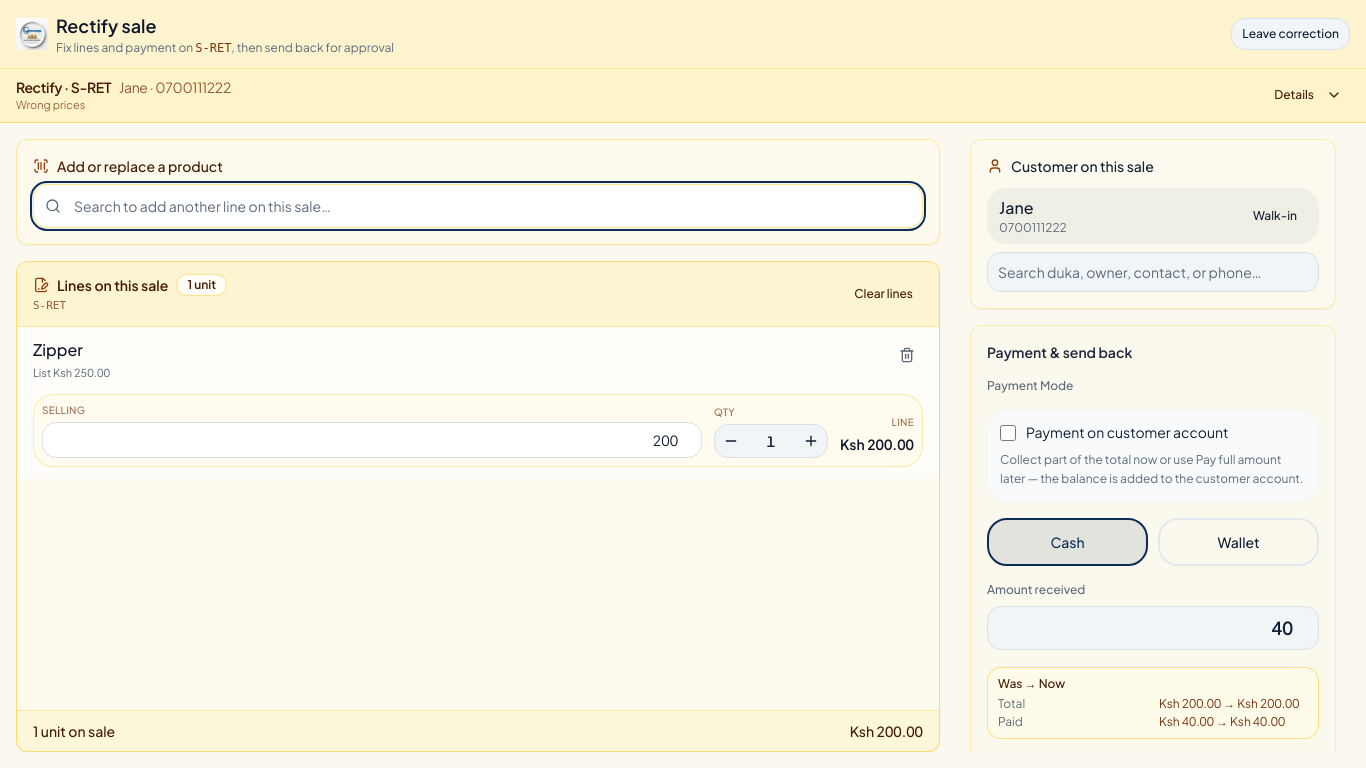
BillingPOSPage invoice layout › shows compact Rectify chrome on Terminal POS for returned sales
The width and height of the screenshot is (1366, 768).
Expected: the element with test id "returned-sale-banner" shows "Rectify · S-RET", [0,69,1365,122]
Expected: the element with test id "returned-sale-banner" shows "Wrong prices", [16,98,85,111]
Click the button with test id "correction-details-toggle": (1308, 95) [1266,79,1350,111]
(page scrolled)
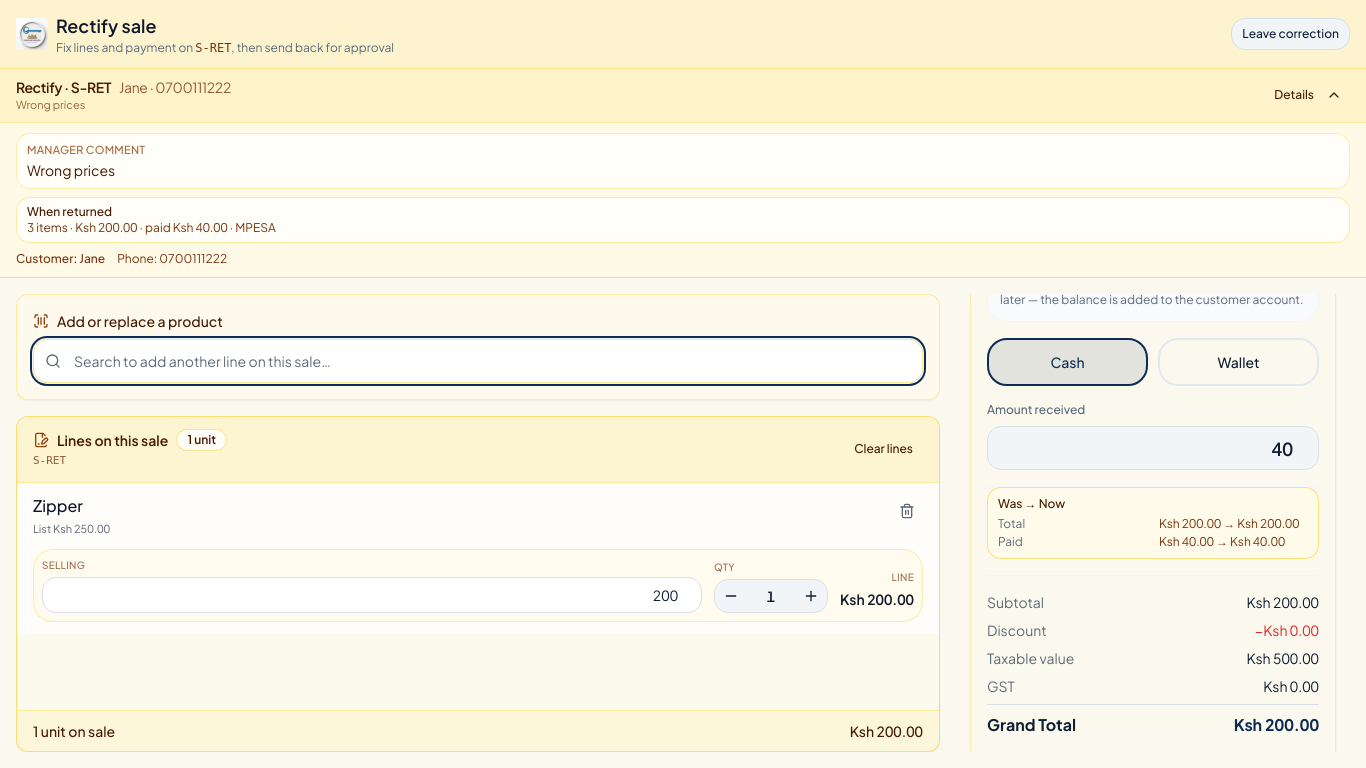
Expected: the element with test id "correction-totals-compare" shows "Was → Now", [998,496,1065,511]
Expected: the element with test id "correction-customer-card" shows "Jane", [79,251,105,266]
Expected: the element with test id "correction-customer-card" shows "0700111222", [159,251,227,266]
